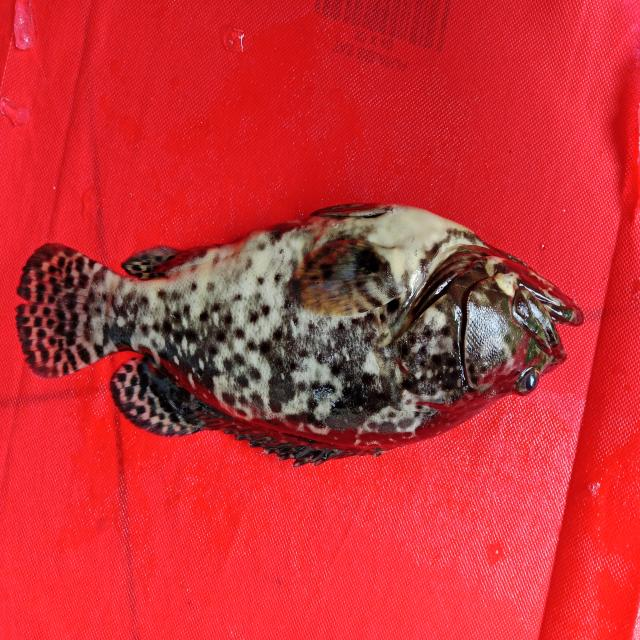ikan: (5, 192, 597, 477)
